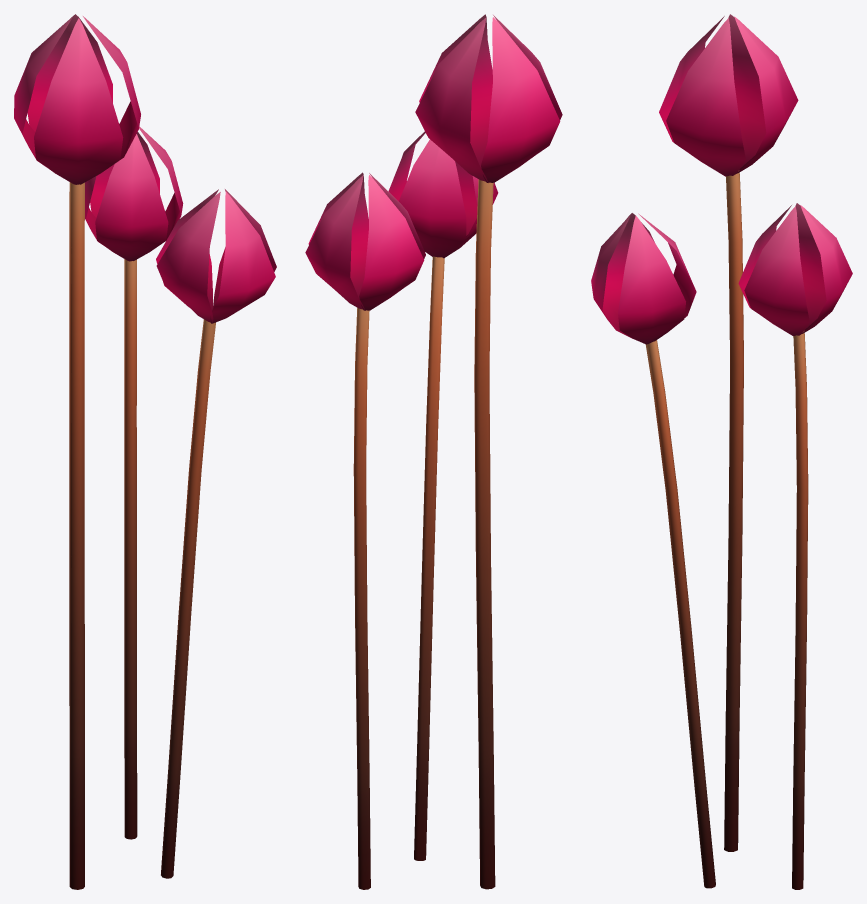
Rendered from Flower6.fbx.
3 renders of one model, left to right at view 1: azimuth 30°, elevation 25°; view 2: azimuth 150°, elevation 25°; view 3: azimuth 270°, elevation 25°, orthographic. The views are drawn at different scales.
Parts seen in each view (by area): view 1: Plane.001; view 2: Plane.001; view 3: Plane.001.
Boxes of the visible parts, <box> form: Plane.001: <box>14,14,276,889</box>; Plane.001: <box>305,14,562,889</box>; Plane.001: <box>591,14,852,889</box>.
Bounding box in the file's own units: 36.29 × 148 × 42.19.
